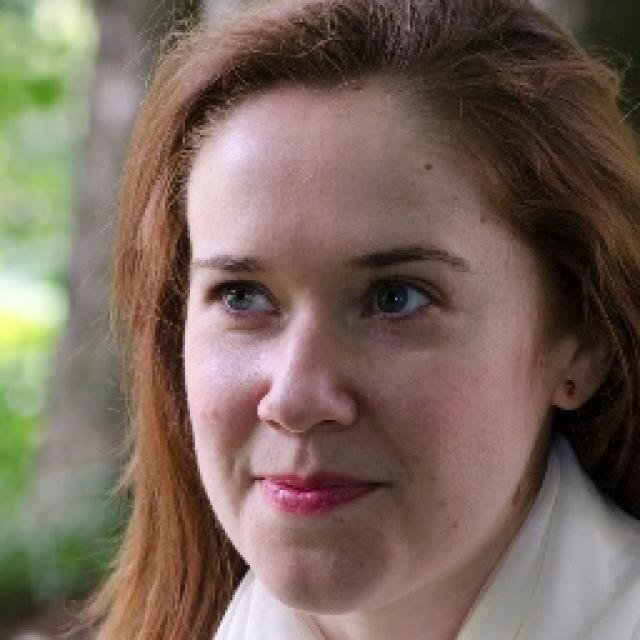earlobe: (550, 361, 594, 413)
eye: (354, 273, 444, 319), (207, 282, 284, 318)
nose: (256, 419, 355, 469)
wholeear: (550, 300, 618, 413)
